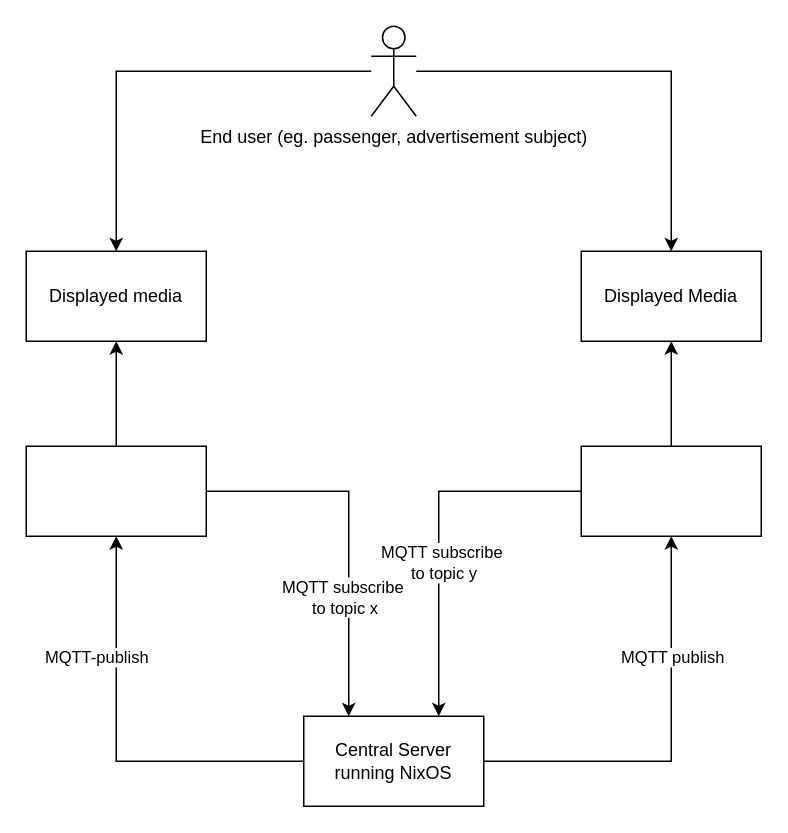
Some shapes in this 788 by 833 pixel diagram are drawn without their labels. The centre of each missing label's shape, as x and y in pixels:
NixOS client 1 running a Wayland compositor: (115,490)
NixOS client n running a Wayland compositor: (670,490)
